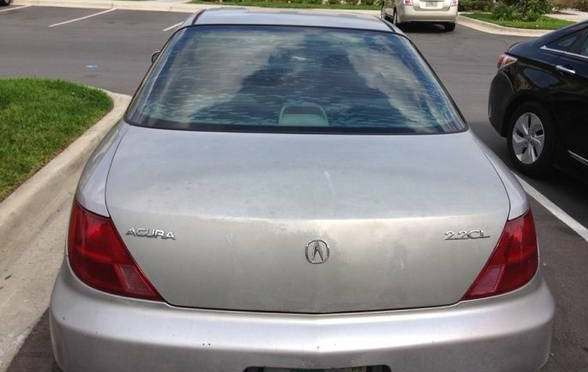acura: (48, 2, 559, 372)
